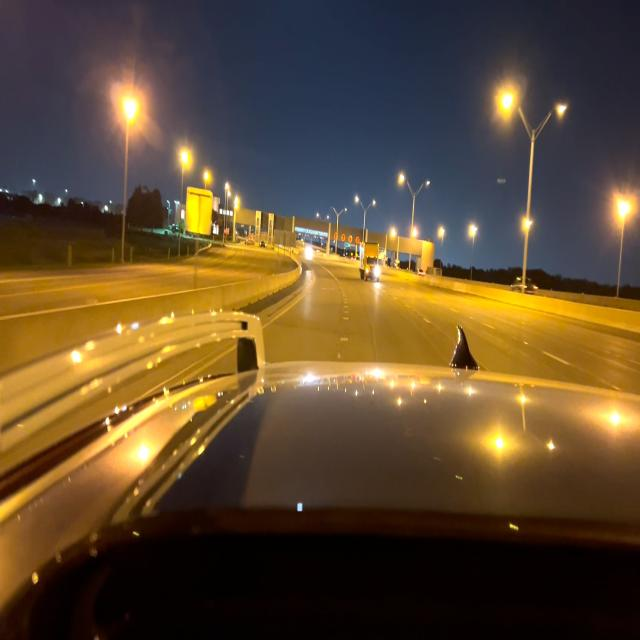back-of-sign: (186, 187, 212, 233)
